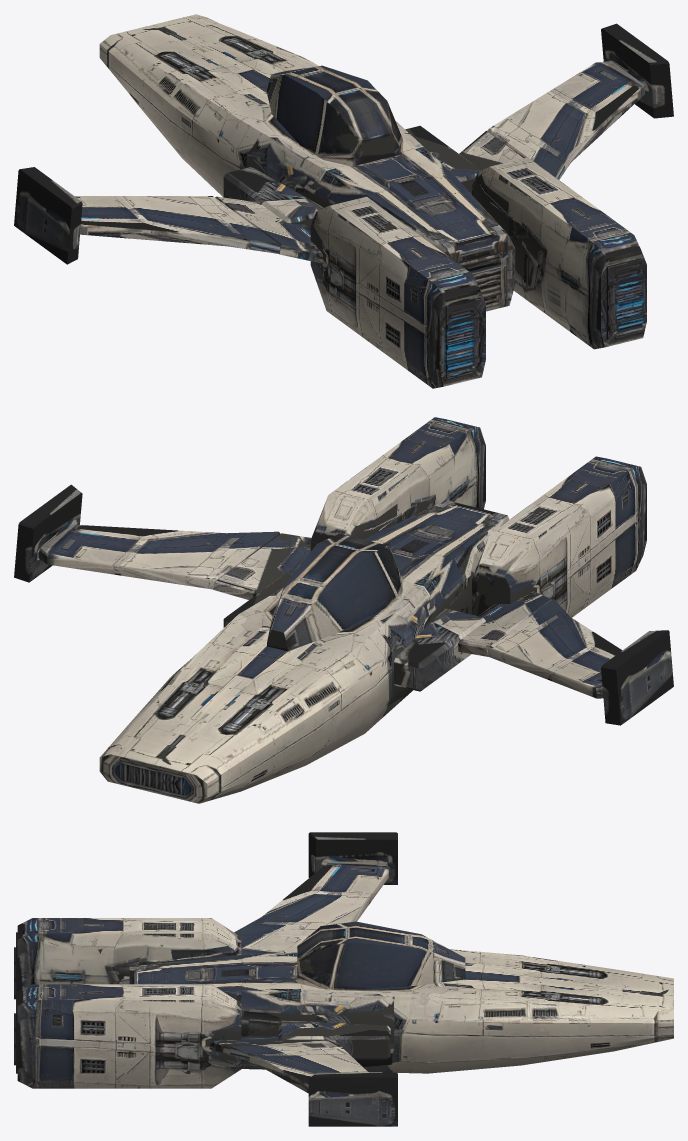
File: interceptor-e.glb
3 renders of one model, top to bottom at view 1: azimuth 30°, elevation 25°; view 2: azimuth 150°, elevation 25°; view 3: azimuth 270°, elevation 25°, orthographic. The views are drawn at different scales.
Visible parts, largest first — view 1: hero_interceptor_engines_e, hero_interceptor_hull_e, hero_interceptor_wings_e, hero_interceptor_cockpit_e; view 2: hero_interceptor_hull_e, hero_interceptor_wings_e, hero_interceptor_engines_e, hero_interceptor_cockpit_e; view 3: hero_interceptor_hull_e, hero_interceptor_engines_e, hero_interceptor_wings_e, hero_interceptor_cockpit_e.
Boxes of the visible parts, x1,y1,x2,y2 form: hero_interceptor_engines_e: (310,157,646,388); hero_interceptor_hull_e: (99,14,515,311); hero_interceptor_wings_e: (14,23,673,264); hero_interceptor_cockpit_e: (267,65,403,166); hero_interceptor_hull_e: (99,500,509,803); hero_interceptor_wings_e: (14,484,673,725); hero_interceptor_engines_e: (310,417,646,617); hero_interceptor_cockpit_e: (267,533,403,651); hero_interceptor_hull_e: (129,949,673,1073); hero_interceptor_engines_e: (14,918,241,1088); hero_interceptor_wings_e: (209,832,397,1126); hero_interceptor_cockpit_e: (297,921,465,989).
Size of the model in its own units: 1.58 by 0.35 by 1.77.
Materials: 1 (1 with a texture image).
